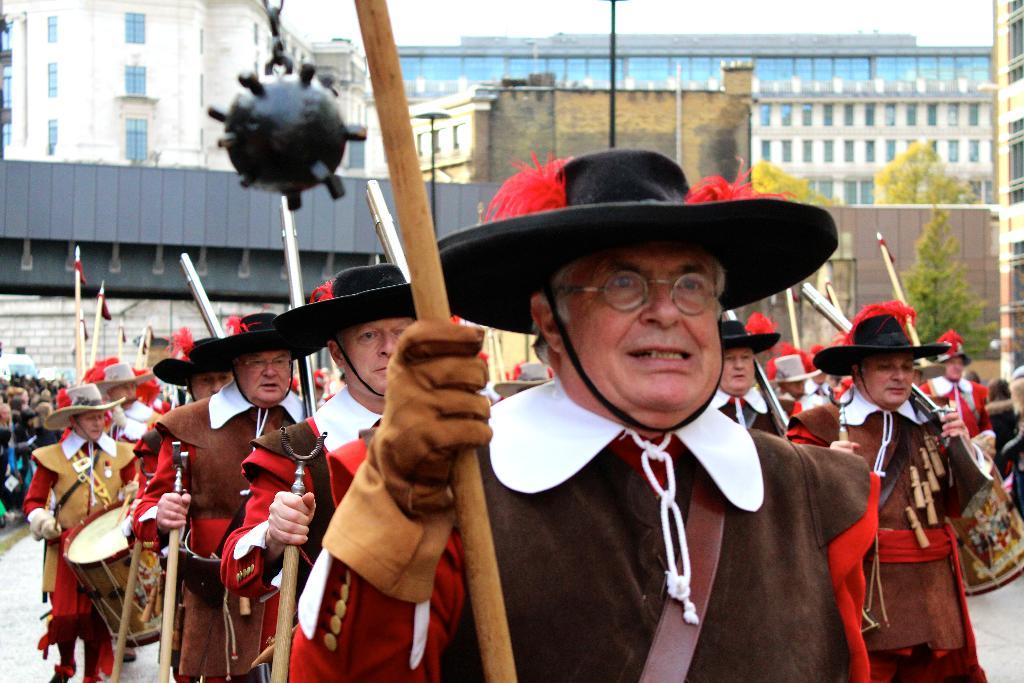Hat: (41, 149, 970, 432)
